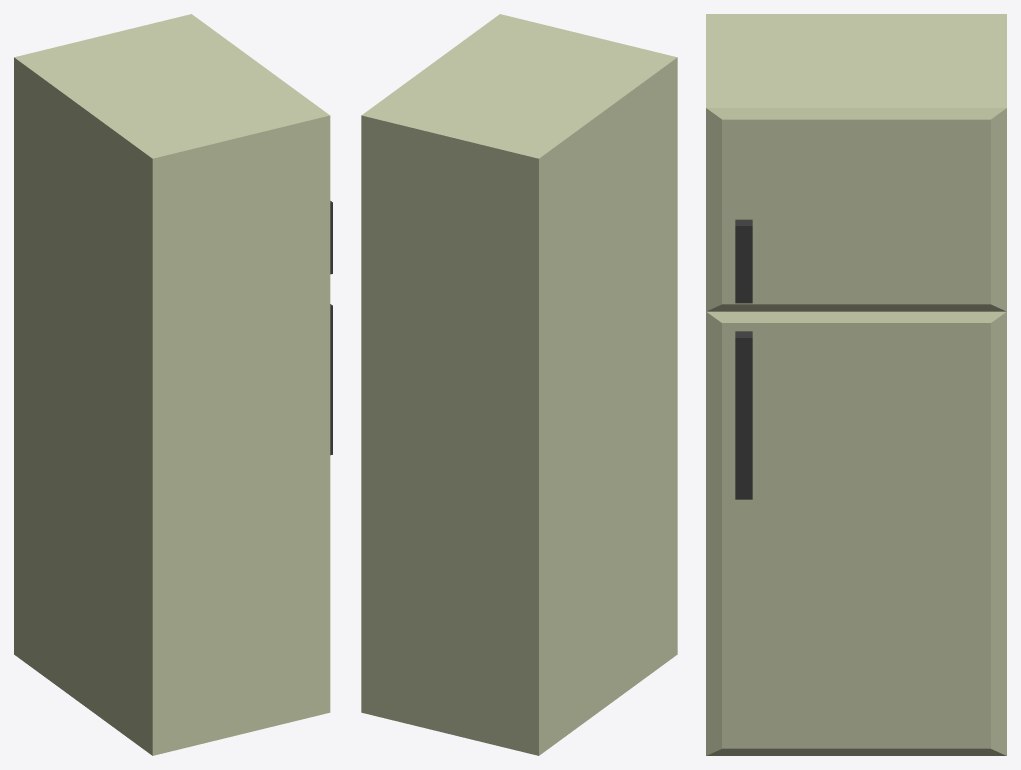
File: fridge.fbx
3 views of the same model, side by side, from view 1: azimuth 30°, elevation 25°; view 2: azimuth 150°, elevation 25°; view 3: azimuth 270°, elevation 25° (orthographic). The views are drawn at different scales.
Parts seen in each view (by area): view 1: Cube; view 2: Cube; view 3: Cube, Cube.001, Cube.002.
Part boxes in pixels (<box>): Cube: <box>14,14,330,755</box>; Cube: <box>361,14,677,755</box>; Cube: <box>706,14,1006,755</box>; Cube.001: <box>735,331,752,499</box>; Cube.002: <box>735,219,752,303</box>.
Size of the model in its own units: 272 by 801 by 337.
